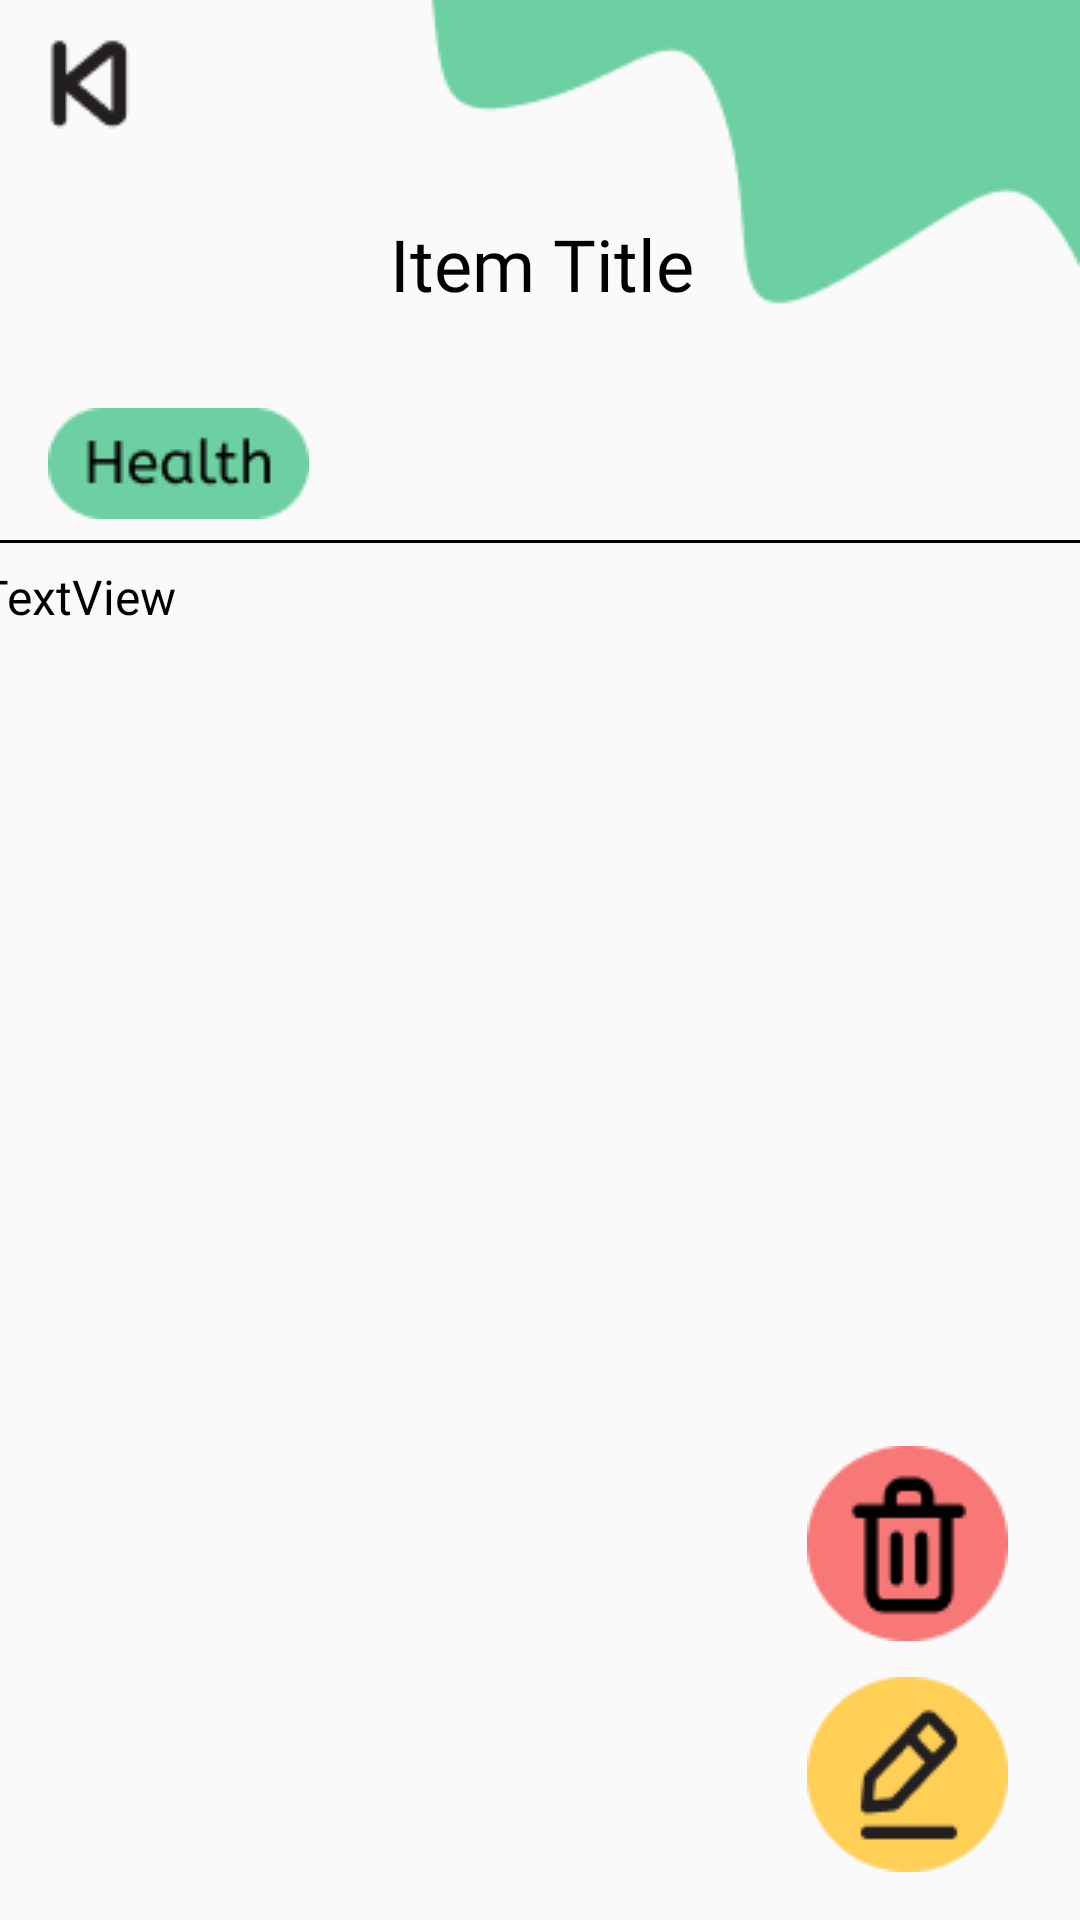

Named icons in this screenshot (1080w x 1920h) and their centers, (x=x, y=y):
backbuttonicon: (x=89, y=84)
deleteiconbutton: (x=907, y=1543)
editiconbutton: (x=907, y=1774)
